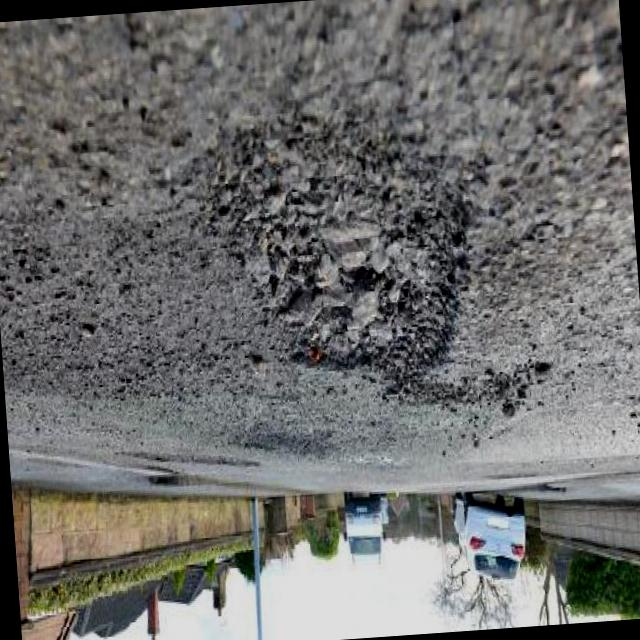pothole: (204, 110, 499, 410)
